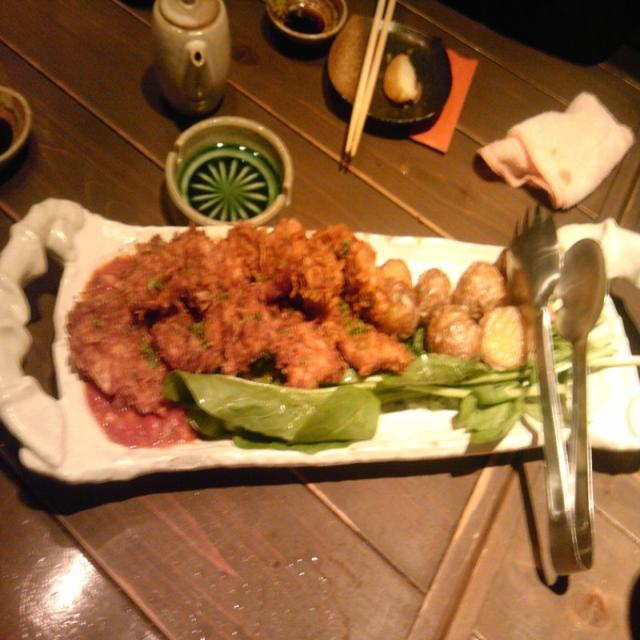鸡肉料理 含炸鸡: (66, 225, 537, 435)
